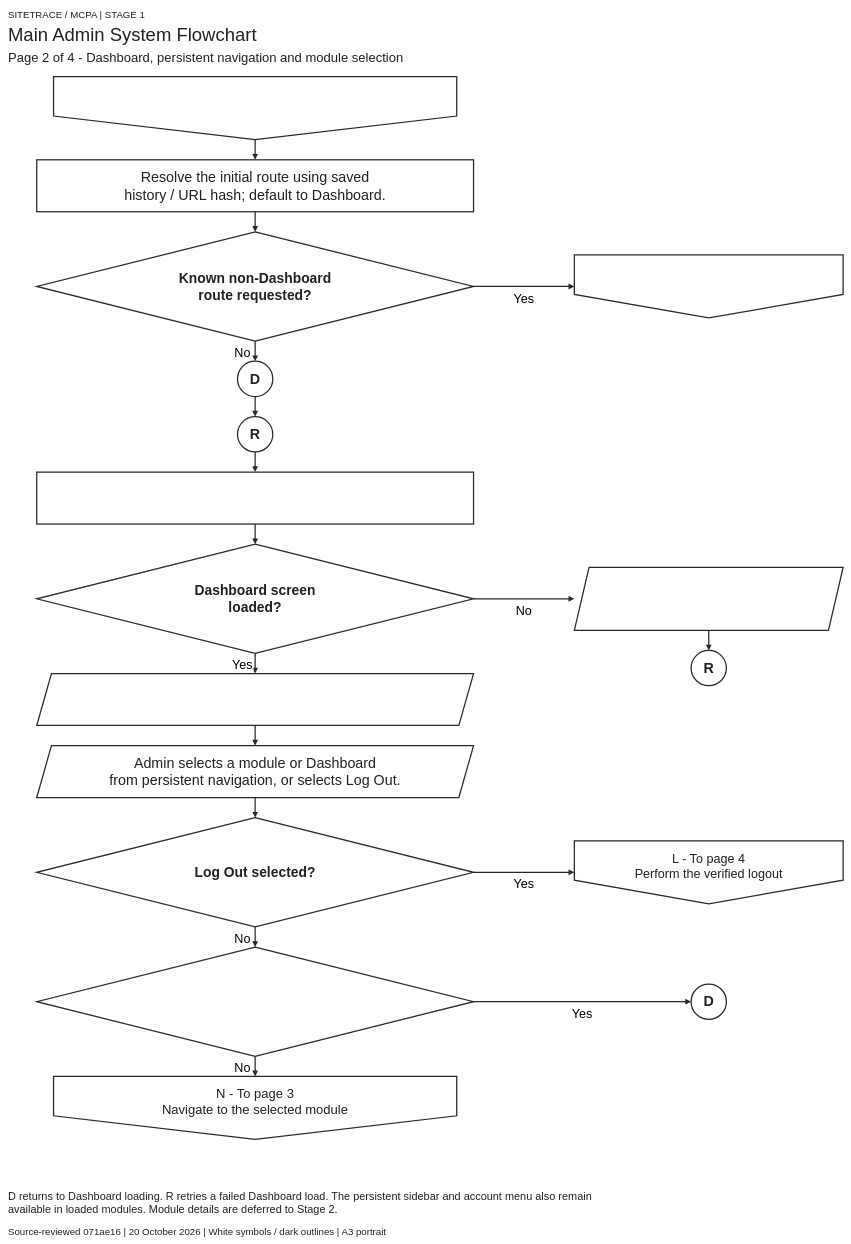
Image size: 851x1244. Some labels were removed from this diagram. Here are the shapes that lost their labels. From the top down, the box of each, then its label:
(53, 76, 457, 140): S - From page 1 Verified active Admin
(574, 254, 844, 318): H - To page 3 Resume the requested module
(36, 471, 474, 524): Load or reuse the Dashboard module through showScreen("dashboard").
(574, 566, 844, 631): Display Unable to load this screen. Admin selects Retry for this route.
(36, 673, 474, 726): Display Admin Dashboard and the available Admin modules.
(36, 946, 474, 1057): Dashboard selected?
